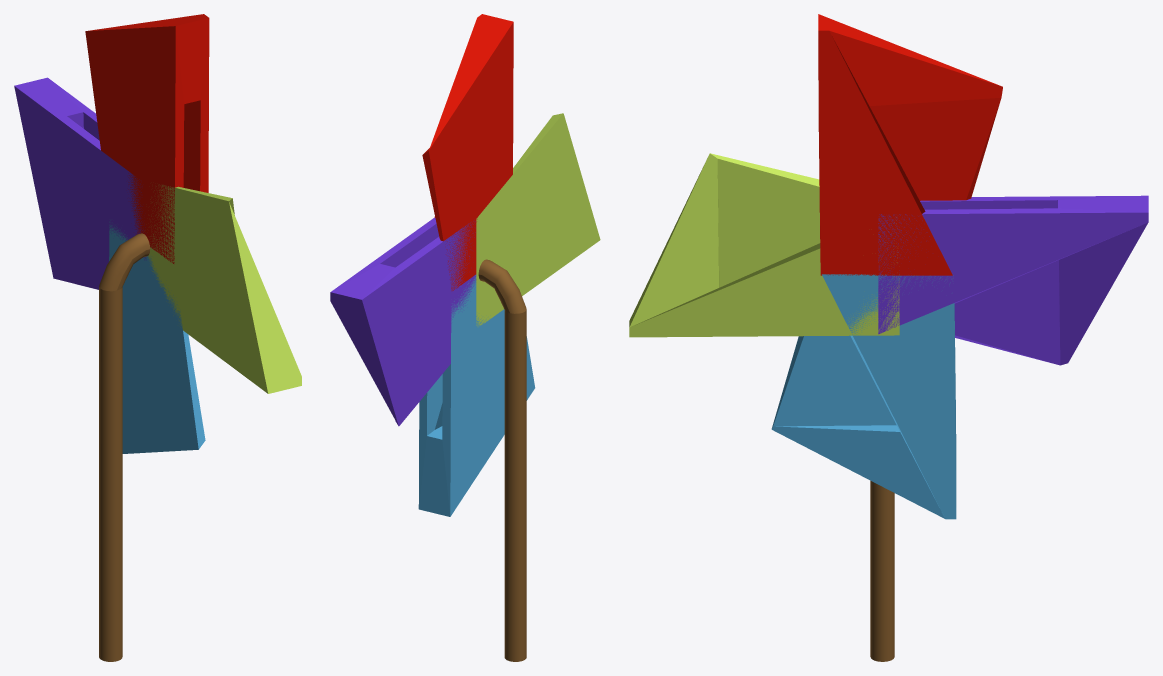
The model's file is RUZGAR_GULU.fbx.
3 views of the same model, side by side, from view 1: azimuth 30°, elevation 25°; view 2: azimuth 150°, elevation 25°; view 3: azimuth 270°, elevation 25° (orthographic). The views are drawn at different scales.
Parts seen in each view (by area): view 1: Cube.006, Cylinder.001; view 2: Cube.006, Cylinder.001; view 3: Cube.006, Cylinder.001.
Part boxes in pixels (box(x1,y1,x2,y2)): Cube.006: box(14, 14, 301, 453); Cylinder.001: box(99, 233, 150, 661); Cube.006: box(330, 14, 600, 516); Cylinder.001: box(478, 259, 526, 661); Cube.006: box(629, 14, 1148, 519); Cylinder.001: box(870, 480, 894, 661).
Size of the model in its own units: 0.3623 by 2.89 by 2.06.
